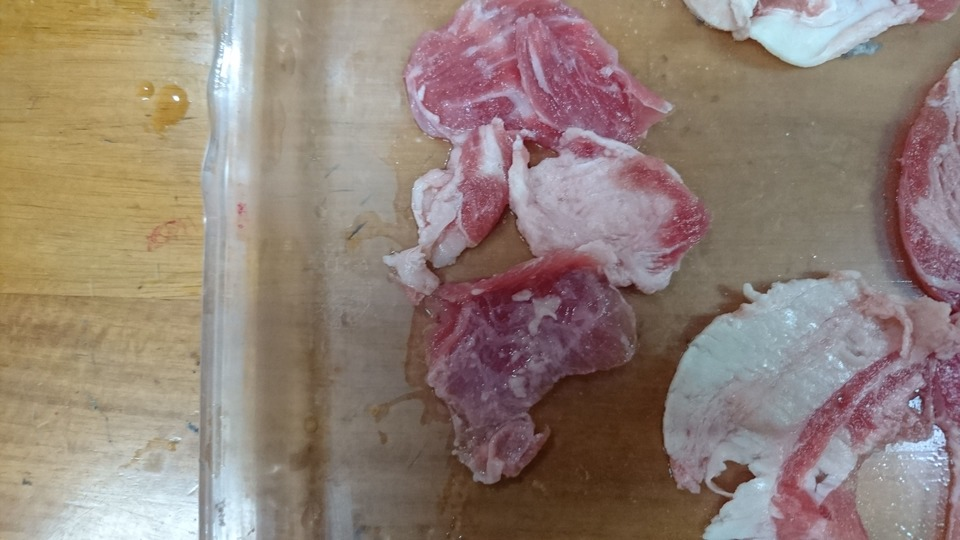restructured meat: (398, 3, 699, 484)
